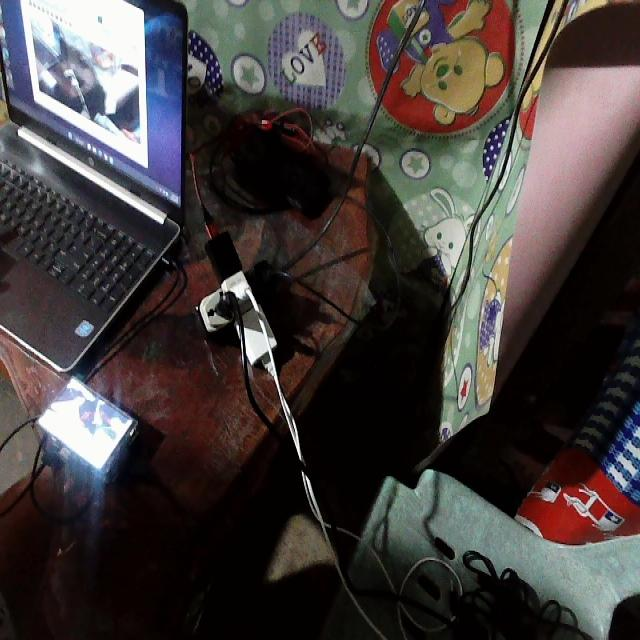-: (192, 211, 295, 392)
